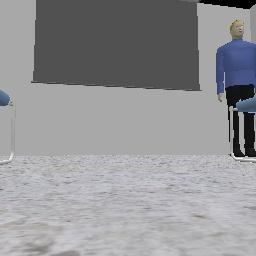persoana: (217, 20, 255, 129), (232, 114, 255, 156)
videoproiector: (33, 0, 200, 90)
